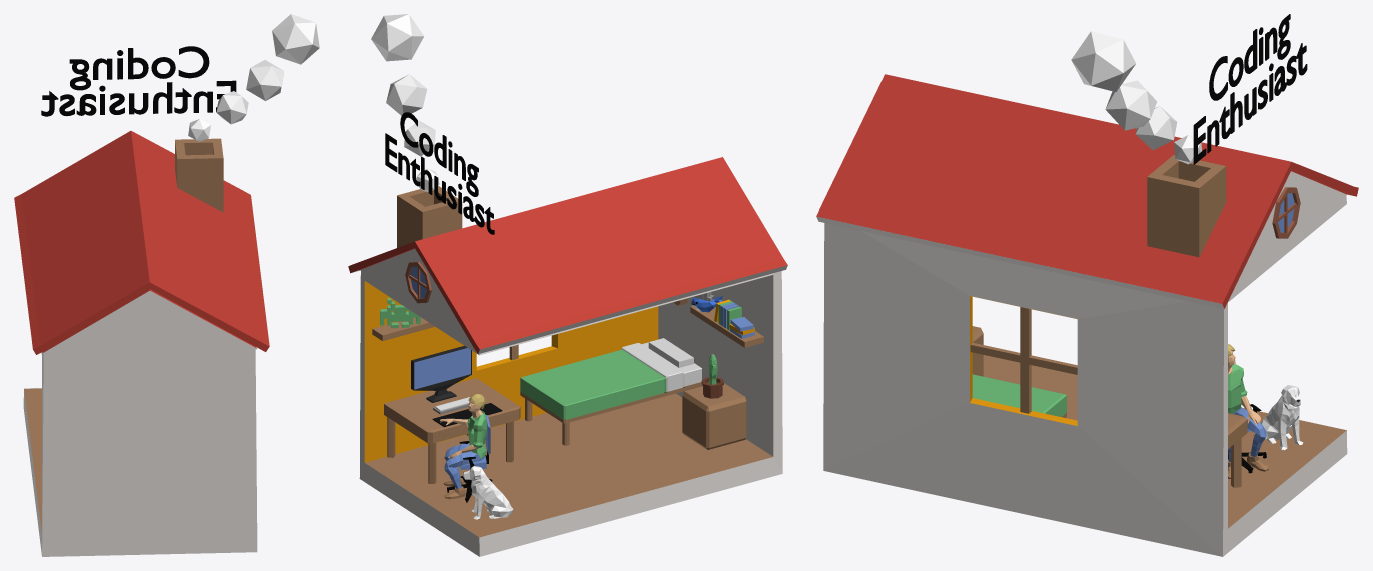
Rendered from home.glb.
3 views of the same model, side by side, from view 1: azimuth 30°, elevation 25°; view 2: azimuth 150°, elevation 25°; view 3: azimuth 270°, elevation 25° (orthographic). The views are drawn at different scales.
Parts seen in each view (by area): view 1: Cube.021, Text.008, Cube.008, Icosphere.036, Icosphere.035, Icosphere.034, Icosphere.033; view 2: Cube.021, Cube.022, Cube.023, Cube.028, Text.008, Cube.008, Cube.030, male.004_Circle.001, Icosphere.036, Beto-Lowpoly-Flowalistik, Icosphere.035, Cylinder.018 (+7 smaller); view 3: Cube.021, Cube.008, Text.008, Icosphere.036, Cube.024, Cube.022, male.004_Circle.001, Icosphere.035, Beto-Lowpoly-Flowalistik, Icosphere.034, Cylinder.018, Cube.023.
Part boxes in pixels (x1,y1,x2,y2): Cube.021: (14,131,269,556); Text.008: (41,46,236,116); Cube.008: (175,138,223,212); Icosphere.036: (272,14,319,64); Icosphere.035: (246,60,284,100); Icosphere.034: (216,91,248,124); Icosphere.033: (188,119,210,141); Cube.021: (348,157,787,556); Cube.022: (520,342,701,445); Cube.023: (384,378,520,483); Cube.028: (682,383,746,449); Text.008: (385,112,494,234); Cube.008: (397,185,462,247); Cube.030: (411,345,471,402); male.004_Circle.001: (440,393,486,499); Icosphere.036: (371,14,424,61); Beto-Lowpoly-Flowalistik: (463,466,513,519); Icosphere.035: (386,74,427,115); Cylinder.018: (405,261,431,303); Cube.021: (816,74,1358,556); Cube.008: (1147,155,1226,257); Text.008: (1193,14,1307,164); Icosphere.036: (1071,31,1135,92); Cube.024: (970,307,1077,413); Cube.022: (972,374,1066,417); male.004_Circle.001: (1228,344,1268,478); Icosphere.035: (1105,80,1157,130); Beto-Lowpoly-Flowalistik: (1261,385,1303,450); Icosphere.034: (1135,106,1177,150); Cylinder.018: (1272,187,1300,238); Cube.023: (1228,413,1247,487).
Bounding box in the file's own units: 4.95 × 5.76 × 5.37.
